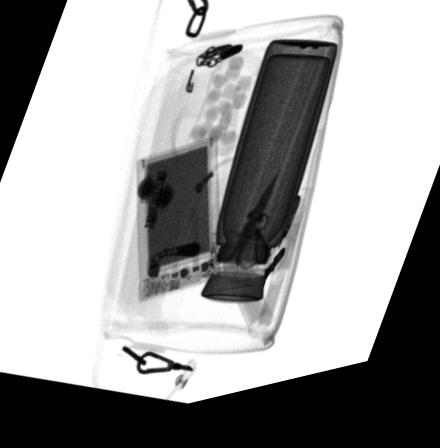Powerbank: (134, 142, 223, 313)
Scissors: (211, 183, 280, 282)
